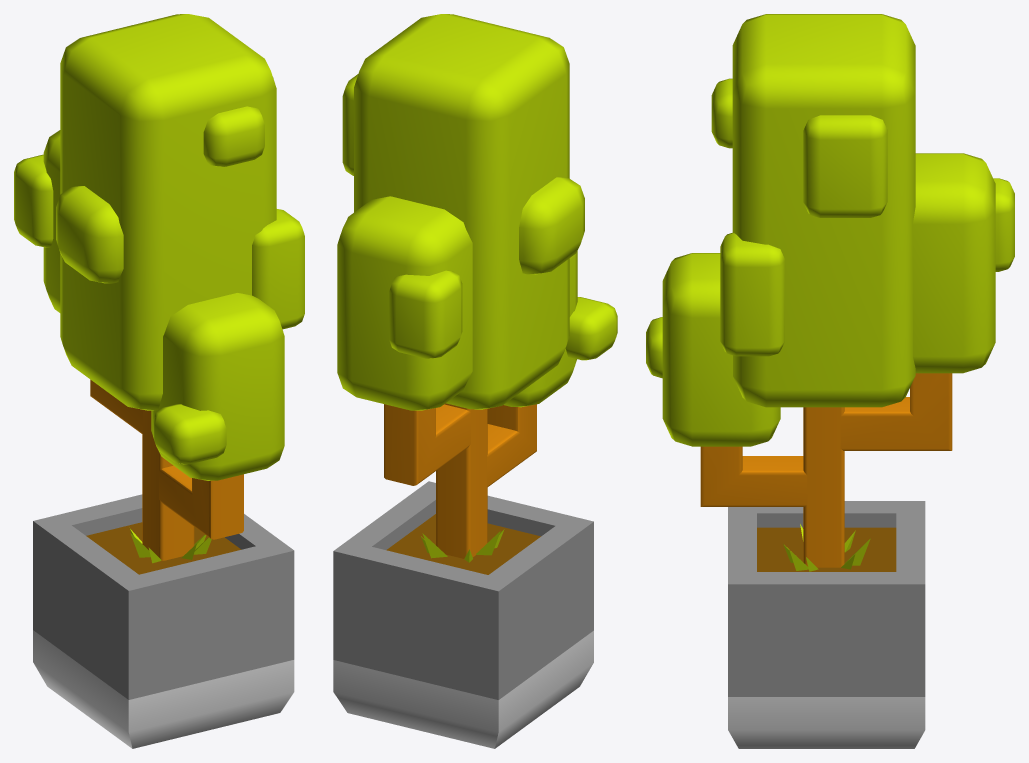
File: tree_small.fbx
The picture shows the model from 3 angles, left to right: view 1: azimuth 30°, elevation 25°; view 2: azimuth 150°, elevation 25°; view 3: azimuth 270°, elevation 25°; orthographic projection. The views are drawn at different scales.
Visible parts, largest first — view 1: tree_small; view 2: tree_small; view 3: tree_small.
Boxes of the visible parts, <box> form: tree_small: <box>14,14,304,748</box>; tree_small: <box>333,14,617,748</box>; tree_small: <box>646,14,1014,748</box>.
Size of the model in its own units: 116 by 372 by 182.
